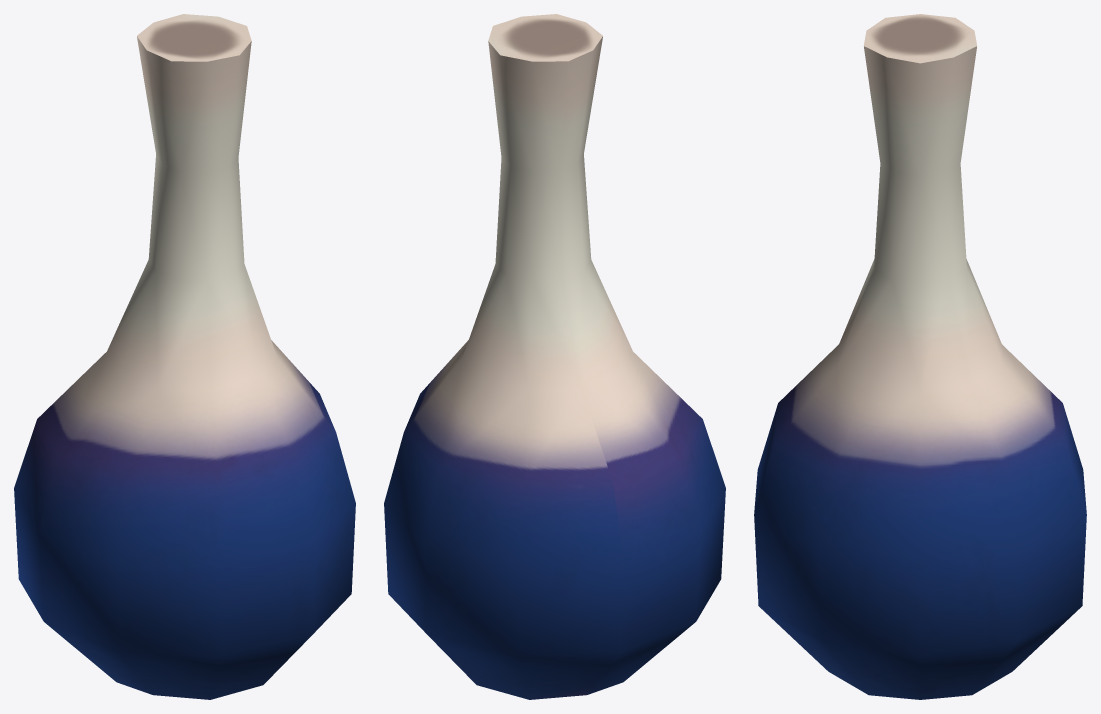
The model's file is modelPotion_blue.fbx.
The picture shows the model from 3 angles, left to right: view 1: azimuth 30°, elevation 25°; view 2: azimuth 150°, elevation 25°; view 3: azimuth 270°, elevation 25°; orthographic projection.
Visible parts, largest first — view 1: modelPotion_blue; view 2: modelPotion_blue; view 3: modelPotion_blue.
Part boxes in pixels (x1,y1,x2,y2): modelPotion_blue: (14, 14, 355, 699); modelPotion_blue: (384, 14, 725, 699); modelPotion_blue: (754, 14, 1086, 699).
Bounding box in the file's own units: 3.59 × 7.31 × 3.45.
